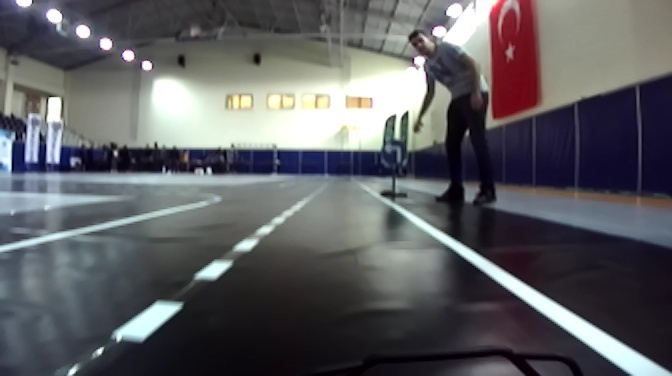sola_donus: (380, 141, 411, 168)
